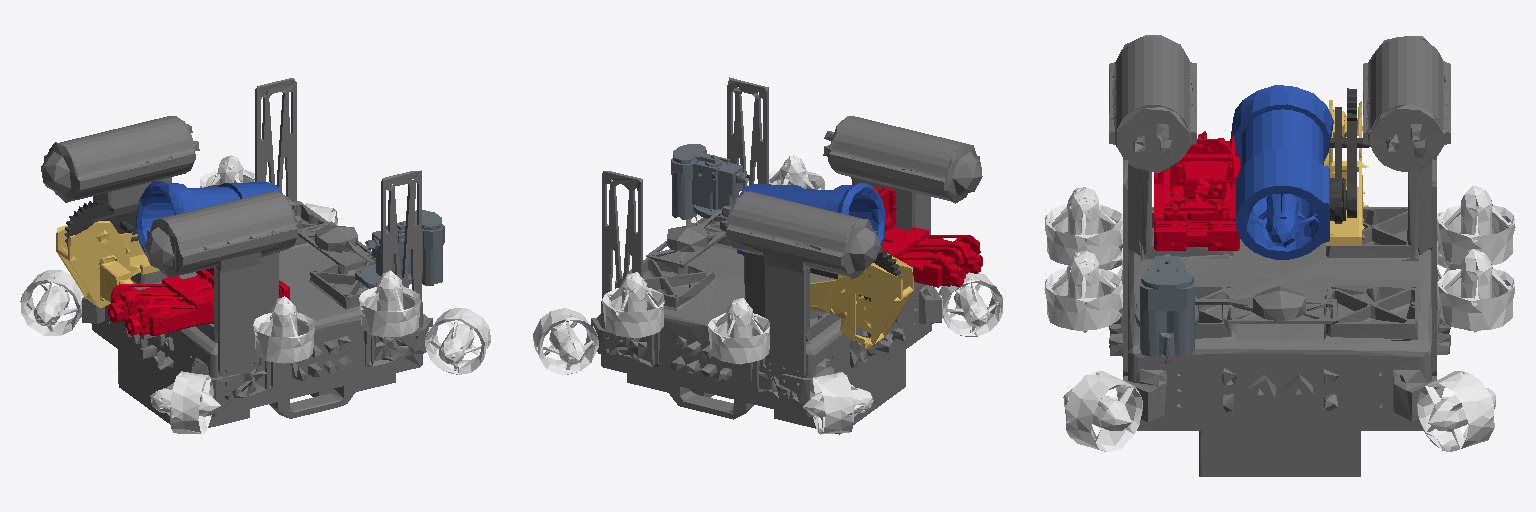
robot.urdf — osprey:
<?xml version="1.0" ?>
<!-- Generated using onshape-to-robot -->
<!-- Onshape https://tartanauv.onshape.com/documents/1d3a264128e12a62f4cb4bc2/w/89ba3c0f0e07a75a030ec478/e/21dfbfffd330340c25762d01 -->
<robot name="osprey">
  <!-- Link os_hull -->
  <link name="os_hull">
    <inertial>
      <origin xyz="-0.0295823 -0.00643136 -0.0139951" rpy="0 0 0"/>
      <mass value="27.6559"/>
      <inertia ixx="0.85867" ixy="0.0143073" ixz="0.134619" iyy="0.839758" iyz="0.00651412" izz="1.23509"/>
    </inertial>
    <!-- Part thruster -->
    <visual>
      <origin xyz="-0.094181 0.24585 0.0130518" rpy="1.70074e-16 -5.55112e-17 3.14159"/>
      <geometry>
        <mesh filename="package://assets/thruster.stl"/>
      </geometry>
      <material name="thruster_material">
        <color rgba="0.917647 0.917647 0.917647 1"/>
      </material>
    </visual>
    <collision>
      <origin xyz="-0.094181 0.24585 0.0130518" rpy="1.70074e-16 -5.55112e-17 3.14159"/>
      <geometry>
        <mesh filename="package://assets/thruster.stl"/>
      </geometry>
    </collision>
    <!-- Part thruster_2 -->
    <visual>
      <origin xyz="0.231974 0.219909 -0.0789257" rpy="-2.35619 1.5708 0"/>
      <geometry>
        <mesh filename="package://assets/thruster.stl"/>
      </geometry>
      <material name="thruster_2_material">
        <color rgba="0.917647 0.917647 0.917647 1"/>
      </material>
    </visual>
    <collision>
      <origin xyz="0.231974 0.219909 -0.0789257" rpy="-2.35619 1.5708 0"/>
      <geometry>
        <mesh filename="package://assets/thruster.stl"/>
      </geometry>
    </collision>
    <!-- Part thruster_3 -->
    <visual>
      <origin xyz="-0.239437 0.212447 -0.0789257" rpy="2.35619 1.5708 0"/>
      <geometry>
        <mesh filename="package://assets/thruster.stl"/>
      </geometry>
      <material name="thruster_3_material">
        <color rgba="0.917647 0.917647 0.917647 1"/>
      </material>
    </visual>
    <collision>
      <origin xyz="-0.239437 0.212447 -0.0789257" rpy="2.35619 1.5708 0"/>
      <geometry>
        <mesh filename="package://assets/thruster.stl"/>
      </geometry>
    </collision>
    <!-- Part thruster_4 -->
    <visual>
      <origin xyz="-0.094181 -0.24585 0.0130518" rpy="1.70074e-16 5.55112e-17 9.41879e-16"/>
      <geometry>
        <mesh filename="package://assets/thruster.stl"/>
      </geometry>
      <material name="thruster_4_material">
        <color rgba="0.917647 0.917647 0.917647 1"/>
      </material>
    </visual>
    <collision>
      <origin xyz="-0.094181 -0.24585 0.0130518" rpy="1.70074e-16 5.55112e-17 9.41879e-16"/>
      <geometry>
        <mesh filename="package://assets/thruster.stl"/>
      </geometry>
    </collision>
    <!-- Part os_hull -->
    <visual>
      <origin xyz="0.037587 0.049 -0.024856" rpy="3.14159 -0 1.5708"/>
      <geometry>
        <mesh filename="package://assets/os_hull.stl"/>
      </geometry>
      <material name="os_hull_material">
        <color rgba="0.498039 0.498039 0.498039 1"/>
      </material>
    </visual>
    <collision>
      <origin xyz="0.037587 0.049 -0.024856" rpy="3.14159 -0 1.5708"/>
      <geometry>
        <mesh filename="package://assets/os_hull.stl"/>
      </geometry>
    </collision>
    <!-- Part os_launcher -->
    <visual>
      <origin xyz="-0.34406 -0.183596 -0.190146" rpy="0 1.93383e-14 -1.5708"/>
      <geometry>
        <mesh filename="package://assets/os_launcher.stl"/>
      </geometry>
      <material name="os_launcher_material">
        <color rgba="0.823529 0.0156863 0.176471 1"/>
      </material>
    </visual>
    <collision>
      <origin xyz="-0.34406 -0.183596 -0.190146" rpy="0 1.93383e-14 -1.5708"/>
      <geometry>
        <mesh filename="package://assets/os_launcher.stl"/>
      </geometry>
    </collision>
    <!-- Part thruster_5 -->
    <visual>
      <origin xyz="0.094181 0.24585 0.0130518" rpy="1.70074e-16 -5.55112e-17 3.14159"/>
      <geometry>
        <mesh filename="package://assets/thruster.stl"/>
      </geometry>
      <material name="thruster_5_material">
        <color rgba="0.917647 0.917647 0.917647 1"/>
      </material>
    </visual>
    <collision>
      <origin xyz="0.094181 0.24585 0.0130518" rpy="1.70074e-16 -5.55112e-17 3.14159"/>
      <geometry>
        <mesh filename="package://assets/thruster.stl"/>
      </geometry>
    </collision>
    <!-- Part thruster_6 -->
    <visual>
      <origin xyz="-0.239437 -0.212447 -0.0789257" rpy="-0.785398 -1.5708 0"/>
      <geometry>
        <mesh filename="package://assets/thruster.stl"/>
      </geometry>
      <material name="thruster_6_material">
        <color rgba="0.917647 0.917647 0.917647 1"/>
      </material>
    </visual>
    <collision>
      <origin xyz="-0.239437 -0.212447 -0.0789257" rpy="-0.785398 -1.5708 0"/>
      <geometry>
        <mesh filename="package://assets/thruster.stl"/>
      </geometry>
    </collision>
    <!-- Part os_arm_base -->
    <visual>
      <origin xyz="-0.280342 0.241861 0.433391" rpy="3.14159 -0 6.12323e-17"/>
      <geometry>
        <mesh filename="package://assets/os_arm_base.stl"/>
      </geometry>
      <material name="os_arm_base_material">
        <color rgba="0.882353 0.756863 0.431373 1"/>
      </material>
    </visual>
    <collision>
      <origin xyz="-0.280342 0.241861 0.433391" rpy="3.14159 -0 6.12323e-17"/>
      <geometry>
        <mesh filename="package://assets/os_arm_base.stl"/>
      </geometry>
    </collision>
    <!-- Part thruster_7 -->
    <visual>
      <origin xyz="0.231974 -0.219909 -0.0789257" rpy="0.785398 -1.5708 0"/>
      <geometry>
        <mesh filename="package://assets/thruster.stl"/>
      </geometry>
      <material name="thruster_7_material">
        <color rgba="0.917647 0.917647 0.917647 1"/>
      </material>
    </visual>
    <collision>
      <origin xyz="0.231974 -0.219909 -0.0789257" rpy="0.785398 -1.5708 0"/>
      <geometry>
        <mesh filename="package://assets/thruster.stl"/>
      </geometry>
    </collision>
    <!-- Part os_dropper -->
    <visual>
      <origin xyz="0.152974 -0.140932 0.0152" rpy="3.14159 -0 -1.5708"/>
      <geometry>
        <mesh filename="package://assets/os_dropper.stl"/>
      </geometry>
      <material name="os_dropper_material">
        <color rgba="0.439216 0.47451 0.501961 1"/>
      </material>
    </visual>
    <collision>
      <origin xyz="0.152974 -0.140932 0.0152" rpy="3.14159 -0 -1.5708"/>
      <geometry>
        <mesh filename="package://assets/os_dropper.stl"/>
      </geometry>
    </collision>
    <!-- Part thruster_8 -->
    <visual>
      <origin xyz="0.094181 -0.24585 0.0130518" rpy="1.70074e-16 5.55112e-17 9.41879e-16"/>
      <geometry>
        <mesh filename="package://assets/thruster.stl"/>
      </geometry>
      <material name="thruster_8_material">
        <color rgba="0.917647 0.917647 0.917647 1"/>
      </material>
    </visual>
    <collision>
      <origin xyz="0.094181 -0.24585 0.0130518" rpy="1.70074e-16 5.55112e-17 9.41879e-16"/>
      <geometry>
        <mesh filename="package://assets/thruster.stl"/>
      </geometry>
    </collision>
  </link>
  <!-- Frame os/launcher/right/front (dummy link + fixed joint) -->
  <link name="os/launcher/right/front">
    <origin xyz="0 0 0" rpy="0 -0 0"/>
    <inertial>
      <origin xyz="0 0 0" rpy="0 0 0"/>
      <mass value="1e-9"/>
      <inertia ixx="0" ixy="0" ixz="0" iyy="0" iyz="0" izz="0"/>
    </inertial>
  </link>
  <joint name="os/launcher/right/front_frame" type="fixed">
    <origin xyz="-0.302742 -0.13074 0.0340625" rpy="-1.5708 -1.93383e-14 1.5708"/>
    <parent link="os_hull"/>
    <child link="os/launcher/right/front"/>
    <axis xyz="0 0 0"/>
  </joint>
  <!-- Frame os/launcher/left/front (dummy link + fixed joint) -->
  <link name="os/launcher/left/front">
    <origin xyz="0 0 0" rpy="0 -0 0"/>
    <inertial>
      <origin xyz="0 0 0" rpy="0 0 0"/>
      <mass value="1e-9"/>
      <inertia ixx="0" ixy="0" ixz="0" iyy="0" iyz="0" izz="0"/>
    </inertial>
  </link>
  <joint name="os/launcher/left/front_frame" type="fixed">
    <origin xyz="-0.302742 -0.07639 0.0340625" rpy="-1.5708 -1.93383e-14 1.5708"/>
    <parent link="os_hull"/>
    <child link="os/launcher/left/front"/>
    <axis xyz="0 0 0"/>
  </joint>
  <!-- Frame os/camera/right (dummy link + fixed joint) -->
  <link name="os/camera/right">
    <origin xyz="0 0 0" rpy="0 -0 0"/>
    <inertial>
      <origin xyz="0 0 0" rpy="0 0 0"/>
      <mass value="1e-9"/>
      <inertia ixx="0" ixy="0" ixz="0" iyy="0" iyz="0" izz="0"/>
    </inertial>
  </link>
  <joint name="os/camera/right_frame" type="fixed">
    <origin xyz="-0.263197 -0.15875 0.167298" rpy="1.5708 1.15637e-31 -1.5708"/>
    <parent link="os_hull"/>
    <child link="os/camera/right"/>
    <axis xyz="0 0 0"/>
  </joint>
  <!-- Frame os/camera/left (dummy link + fixed joint) -->
  <link name="os/camera/left">
    <origin xyz="0 0 0" rpy="0 -0 0"/>
    <inertial>
      <origin xyz="0 0 0" rpy="0 0 0"/>
      <mass value="1e-9"/>
      <inertia ixx="0" ixy="0" ixz="0" iyy="0" iyz="0" izz="0"/>
    </inertial>
  </link>
  <joint name="os/camera/left_frame" type="fixed">
    <origin xyz="-0.263197 0.15875 0.167298" rpy="1.5708 -1.90348e-31 -1.5708"/>
    <parent link="os_hull"/>
    <child link="os/camera/left"/>
    <axis xyz="0 0 0"/>
  </joint>
  <!-- Frame os/thruster/flh (dummy link + fixed joint) -->
  <link name="os/thruster/flh">
    <origin xyz="0 0 0" rpy="0 -0 0"/>
    <inertial>
      <origin xyz="0 0 0" rpy="0 0 0"/>
      <mass value="1e-9"/>
      <inertia ixx="0" ixy="0" ixz="0" iyy="0" iyz="0" izz="0"/>
    </inertial>
  </link>
  <joint name="os/thruster/flh_frame" type="fixed">
    <origin xyz="-0.246501 0.205383 -0.0789257" rpy="-1.5708 1.88842e-17 -2.35619"/>
    <parent link="os_hull"/>
    <child link="os/thruster/flh"/>
    <axis xyz="0 0 0"/>
  </joint>
  <!-- Frame os/thruster/frh (dummy link + fixed joint) -->
  <link name="os/thruster/frh">
    <origin xyz="0 0 0" rpy="0 -0 0"/>
    <inertial>
      <origin xyz="0 0 0" rpy="0 0 0"/>
      <mass value="1e-9"/>
      <inertia ixx="0" ixy="0" ixz="0" iyy="0" iyz="0" izz="0"/>
    </inertial>
  </link>
  <joint name="os/thruster/frh_frame" type="fixed">
    <origin xyz="-0.246501 -0.205383 -0.0789257" rpy="-1.5708 -2.65242e-16 2.35619"/>
    <parent link="os_hull"/>
    <child link="os/thruster/frh"/>
    <axis xyz="0 0 0"/>
  </joint>
  <!-- Frame os/thruster/frv (dummy link + fixed joint) -->
  <link name="os/thruster/frv">
    <origin xyz="0 0 0" rpy="0 -0 0"/>
    <inertial>
      <origin xyz="0 0 0" rpy="0 0 0"/>
      <mass value="1e-9"/>
      <inertia ixx="0" ixy="0" ixz="0" iyy="0" iyz="0" izz="0"/>
    </inertial>
  </link>
  <joint name="os/thruster/frv_frame" type="fixed">
    <origin xyz="-0.094181 -0.24585 0.0230414" rpy="1.10637e-15 -1.5708 0"/>
    <parent link="os_hull"/>
    <child link="os/thruster/frv"/>
    <axis xyz="0 0 0"/>
  </joint>
  <!-- Frame os/thruster/arv (dummy link + fixed joint) -->
  <link name="os/thruster/arv">
    <origin xyz="0 0 0" rpy="0 -0 0"/>
    <inertial>
      <origin xyz="0 0 0" rpy="0 0 0"/>
      <mass value="1e-9"/>
      <inertia ixx="0" ixy="0" ixz="0" iyy="0" iyz="0" izz="0"/>
    </inertial>
  </link>
  <joint name="os/thruster/arv_frame" type="fixed">
    <origin xyz="0.094181 -0.24585 0.0230414" rpy="1.5708 -1.5708 0"/>
    <parent link="os_hull"/>
    <child link="os/thruster/arv"/>
    <axis xyz="0 0 0"/>
  </joint>
  <!-- Frame os/thruster/arh (dummy link + fixed joint) -->
  <link name="os/thruster/arh">
    <origin xyz="0 0 0" rpy="0 -0 0"/>
    <inertial>
      <origin xyz="0 0 0" rpy="0 0 0"/>
      <mass value="1e-9"/>
      <inertia ixx="0" ixy="0" ixz="0" iyy="0" iyz="0" izz="0"/>
    </inertial>
  </link>
  <joint name="os/thruster/arh_frame" type="fixed">
    <origin xyz="0.224911 -0.226973 -0.0789257" rpy="-1.5708 3.75523e-15 -2.35619"/>
    <parent link="os_hull"/>
    <child link="os/thruster/arh"/>
    <axis xyz="0 0 0"/>
  </joint>
  <!-- Frame os/thruster/alh (dummy link + fixed joint) -->
  <link name="os/thruster/alh">
    <origin xyz="0 0 0" rpy="0 -0 0"/>
    <inertial>
      <origin xyz="0 0 0" rpy="0 0 0"/>
      <mass value="1e-9"/>
      <inertia ixx="0" ixy="0" ixz="0" iyy="0" iyz="0" izz="0"/>
    </inertial>
  </link>
  <joint name="os/thruster/alh_frame" type="fixed">
    <origin xyz="0.224911 0.226973 -0.0789257" rpy="-1.5708 2.22826e-17 2.35619"/>
    <parent link="os_hull"/>
    <child link="os/thruster/alh"/>
    <axis xyz="0 0 0"/>
  </joint>
  <!-- Frame os/dropper/left (dummy link + fixed joint) -->
  <link name="os/dropper/left">
    <origin xyz="0 0 0" rpy="0 -0 0"/>
    <inertial>
      <origin xyz="0 0 0" rpy="0 0 0"/>
      <mass value="1e-9"/>
      <inertia ixx="0" ixy="0" ixz="0" iyy="0" iyz="0" izz="0"/>
    </inertial>
  </link>
  <joint name="os/dropper/left_frame" type="fixed">
    <origin xyz="0.218915 -0.124632 0.09325" rpy="-7.00728e-16 -1.20676e-15 1.5708"/>
    <parent link="os_hull"/>
    <child link="os/dropper/left"/>
    <axis xyz="0 0 0"/>
  </joint>
  <!-- Frame os/dropper/right (dummy link + fixed joint) -->
  <link name="os/dropper/right">
    <origin xyz="0 0 0" rpy="0 -0 0"/>
    <inertial>
      <origin xyz="0 0 0" rpy="0 0 0"/>
      <mass value="1e-9"/>
      <inertia ixx="0" ixy="0" ixz="0" iyy="0" iyz="0" izz="0"/>
    </inertial>
  </link>
  <joint name="os/dropper/right_frame" type="fixed">
    <origin xyz="0.218915 -0.157232 0.09325" rpy="-7.00728e-16 -1.20676e-15 1.5708"/>
    <parent link="os_hull"/>
    <child link="os/dropper/right"/>
    <axis xyz="0 0 0"/>
  </joint>
  <!-- Frame os/thruster/alv (dummy link + fixed joint) -->
  <link name="os/thruster/alv">
    <origin xyz="0 0 0" rpy="0 -0 0"/>
    <inertial>
      <origin xyz="0 0 0" rpy="0 0 0"/>
      <mass value="1e-9"/>
      <inertia ixx="0" ixy="0" ixz="0" iyy="0" iyz="0" izz="0"/>
    </inertial>
  </link>
  <joint name="os/thruster/alv_frame" type="fixed">
    <origin xyz="0.094181 0.24585 0.0230414" rpy="3.14159 -1.5708 0"/>
    <parent link="os_hull"/>
    <child link="os/thruster/alv"/>
    <axis xyz="0 0 0"/>
  </joint>
  <!-- Frame os/thruster/flv (dummy link + fixed joint) -->
  <link name="os/thruster/flv">
    <origin xyz="0 0 0" rpy="0 -0 0"/>
    <inertial>
      <origin xyz="0 0 0" rpy="0 0 0"/>
      <mass value="1e-9"/>
      <inertia ixx="0" ixy="0" ixz="0" iyy="0" iyz="0" izz="0"/>
    </inertial>
  </link>
  <joint name="os/thruster/flv_frame" type="fixed">
    <origin xyz="-0.094181 0.24585 0.0230414" rpy="3.14159 -1.5708 0"/>
    <parent link="os_hull"/>
    <child link="os/thruster/flv"/>
    <axis xyz="0 0 0"/>
  </joint>
  <!-- Frame os/launcher/right/back (dummy link + fixed joint) -->
  <link name="os/launcher/right/back">
    <origin xyz="0 0 0" rpy="0 -0 0"/>
    <inertial>
      <origin xyz="0 0 0" rpy="0 0 0"/>
      <mass value="1e-9"/>
      <inertia ixx="0" ixy="0" ixz="0" iyy="0" iyz="0" izz="0"/>
    </inertial>
  </link>
  <joint name="os/launcher/right/back_frame" type="fixed">
    <origin xyz="-0.0837294 -0.13074 0.0340625" rpy="-1.5708 -1.93383e-14 1.5708"/>
    <parent link="os_hull"/>
    <child link="os/launcher/right/back"/>
    <axis xyz="0 0 0"/>
  </joint>
  <!-- Frame os/launcher/left/back (dummy link + fixed joint) -->
  <link name="os/launcher/left/back">
    <origin xyz="0 0 0" rpy="0 -0 0"/>
    <inertial>
      <origin xyz="0 0 0" rpy="0 0 0"/>
      <mass value="1e-9"/>
      <inertia ixx="0" ixy="0" ixz="0" iyy="0" iyz="0" izz="0"/>
    </inertial>
  </link>
  <joint name="os/launcher/left/back_frame" type="fixed">
    <origin xyz="-0.0838074 -0.07639 0.0340625" rpy="-1.5708 -1.93383e-14 1.5708"/>
    <parent link="os_hull"/>
    <child link="os/launcher/left/back"/>
    <axis xyz="0 0 0"/>
  </joint>
  <!-- Frame os/dvl (dummy link + fixed joint) -->
  <link name="os/dvl">
    <origin xyz="0 0 0" rpy="0 -0 0"/>
    <inertial>
      <origin xyz="0 0 0" rpy="0 0 0"/>
      <mass value="1e-9"/>
      <inertia ixx="0" ixy="0" ixz="0" iyy="0" iyz="0" izz="0"/>
    </inertial>
  </link>
  <joint name="os/dvl_frame" type="fixed">
    <origin xyz="0.140895 -1.18509e-05 0.0199625" rpy="-1.79692e-16 2.07039e-14 1.5708"/>
    <parent link="os_hull"/>
    <child link="os/dvl"/>
    <axis xyz="0 0 0"/>
  </joint>
  <!-- Frame os/depth (dummy link + fixed joint) -->
  <link name="os/depth">
    <origin xyz="0 0 0" rpy="0 -0 0"/>
    <inertial>
      <origin xyz="0 0 0" rpy="0 0 0"/>
      <mass value="1e-9"/>
      <inertia ixx="0" ixy="0" ixz="0" iyy="0" iyz="0" izz="0"/>
    </inertial>
  </link>
  <joint name="os/depth_frame" type="fixed">
    <origin xyz="-0.2025 -0.0381 -0.0803025" rpy="-1.5708 -3.33854e-30 1.5708"/>
    <parent link="os_hull"/>
    <child link="os/depth"/>
    <axis xyz="0 0 0"/>
  </joint>
  <!-- Frame os/imu (dummy link + fixed joint) -->
  <link name="os/imu">
    <origin xyz="0 0 0" rpy="0 -0 0"/>
    <inertial>
      <origin xyz="0 0 0" rpy="0 0 0"/>
      <mass value="1e-9"/>
      <inertia ixx="0" ixy="0" ixz="0" iyy="0" iyz="0" izz="0"/>
    </inertial>
  </link>
  <joint name="os/imu_frame" type="fixed">
    <origin xyz="0.037587 0.049 -0.024856" rpy="2.71051e-20 -6.12323e-17 -3.14159"/>
    <parent link="os_hull"/>
    <child link="os/imu"/>
    <axis xyz="0 0 0"/>
  </joint>
  <!-- Link os_arm_link -->
  <link name="os_arm_link">
    <inertial>
      <origin xyz="-0.0994583 0.036203 -0.00219433" rpy="0 0 0"/>
      <mass value="0.736942"/>
      <inertia ixx="0.000949967" ixy="0.00185596" ixz="0.000240872" iyy="0.00537443" iyz="-8.76508e-05" izz="0.00621057"/>
    </inertial>
    <!-- Part os_arm_link -->
    <visual>
      <origin xyz="-0.0382553 0.338481 -0.157942" rpy="1.5708 -4.996e-16 -2.22218e-17"/>
      <geometry>
        <mesh filename="package://assets/os_arm_link.stl"/>
      </geometry>
      <material name="os_arm_link_material">
        <color rgba="0.294118 0.294118 0.294118 1"/>
      </material>
    </visual>
    <collision>
      <origin xyz="-0.0382553 0.338481 -0.157942" rpy="1.5708 -4.996e-16 -2.22218e-17"/>
      <geometry>
        <mesh filename="package://assets/os_arm_link.stl"/>
      </geometry>
    </collision>
  </link>
  <!-- Link os_arm_tube -->
  <link name="os_arm_tube">
    <inertial>
      <origin xyz="-5.75182e-05 -0.0295561 -0.057812" rpy="0 0 0"/>
      <mass value="0.889825"/>
      <inertia ixx="0.00518868" ixy="2.42988e-06" ixz="-7.44611e-08" iyy="0.0021435" iyz="-3.27023e-05" izz="0.00515098"/>
    </inertial>
    <!-- Part os_arm_tube -->
    <visual>
      <origin xyz="0.166033 -0.264126 0.179792" rpy="-1.5708 8.54658e-16 1.94138e-18"/>
      <geometry>
        <mesh filename="package://assets/os_arm_tube.stl"/>
      </geometry>
      <material name="os_arm_tube_material">
        <color rgba="0.231373 0.380392 0.705882 1"/>
      </material>
    </visual>
    <collision>
      <origin xyz="0.166033 -0.264126 0.179792" rpy="-1.5708 8.54658e-16 1.94138e-18"/>
      <geometry>
        <mesh filename="package://assets/os_arm_tube.stl"/>
      </geometry>
    </collision>
  </link>
  <!-- Frame os/arm/intake (dummy link + fixed joint) -->
  <link name="os/arm/intake">
    <origin xyz="0 0 0" rpy="0 -0 0"/>
    <inertial>
      <origin xyz="0 0 0" rpy="0 0 0"/>
      <mass value="1e-9"/>
      <inertia ixx="0" ixy="0" ixz="0" iyy="0" iyz="0" izz="0"/>
    </inertial>
  </link>
  <joint name="os/arm/intake_frame" type="fixed">
    <origin xyz="2.08167e-16 -0.1397 -0.0587375" rpy="1.5708 -1.5708 0"/>
    <parent link="os_arm_tube"/>
    <child link="os/arm/intake"/>
    <axis xyz="0 0 0"/>
  </joint>
  <!-- Frame os/arm/thruster (dummy link + fixed joint) -->
  <link name="os/arm/thruster">
    <origin xyz="0 0 0" rpy="0 -0 0"/>
    <inertial>
      <origin xyz="0 0 0" rpy="0 0 0"/>
      <mass value="1e-9"/>
      <inertia ixx="0" ixy="0" ixz="0" iyy="0" iyz="0" izz="0"/>
    </inertial>
  </link>
  <joint name="os/arm/thruster_frame" type="fixed">
    <origin xyz="0.001 0.031518 -0.0587375" rpy="3.03274e-15 1.10685e-17 1.5708"/>
    <parent link="os_arm_tube"/>
    <child link="os/arm/thruster"/>
    <axis xyz="0 0 0"/>
  </joint>
  <!-- Joint from os_arm_link to os_arm_tube -->
  <joint name="os/arm/link" type="revolute">
    <origin xyz="-0.204288 0.0743547 0.02185" rpy="-3.14159 8.89355e-16 -2.13546"/>
    <parent link="os_arm_link"/>
    <child link="os_arm_tube"/>
    <axis xyz="0 0 1"/>
    <limit effort="10" velocity="10" lower="-3.141592653589793" upper="3.141592653589793"/>
    <mimic joint="os/arm/base" multiplier="-0.7647058823529411"/>
  </joint>
  <!-- Joint from os_hull to os_arm_link -->
  <joint name="os/arm/base" type="revolute">
    <origin xyz="-0.242087 0.0838629 0.0949098" rpy="-1.5708 0.349066 3.14159"/>
    <parent link="os_hull"/>
    <child link="os_arm_link"/>
    <axis xyz="0 0 1"/>
    <limit effort="10" velocity="10" lower="0" upper="2.79253"/>
  </joint>
</robot>

--- What the picture shows (computed from the rendered views, not written in the file) ---
The picture shows the robot from 3 angles, left to right: view 1: azimuth 30°, elevation 25°; view 2: azimuth 150°, elevation 25°; view 3: azimuth 270°, elevation 25°; orthographic projection.
Robot: osprey — 24 links, 23 joints (2 revolute, 21 fixed); root link os_hull; default pose: all joints at 0.
Links seen in each view (by area): view 1: os_hull, os_arm_tube, os_arm_link; view 2: os_hull, os_arm_tube, os_arm_link; view 3: os_hull, os_arm_tube, os_arm_link.
Link boxes in pixels (x1=…): os_hull: x1=20, y1=78, x2=490, y2=433; os_arm_tube: x1=136, y1=181, x2=282, y2=254; os_arm_link: x1=64, y1=185, x2=218, y2=246; os_hull: x1=533, y1=77, x2=1002, y2=434; os_arm_tube: x1=737, y1=183, x2=885, y2=255; os_arm_link: x1=740, y1=246, x2=900, y2=301; os_hull: x1=1044, y1=35, x2=1515, y2=476; os_arm_tube: x1=1232, y1=85, x2=1333, y2=259; os_arm_link: x1=1329, y1=88, x2=1369, y2=223.
Size in the robot's own frame: 0.5831 by 0.5892 by 0.4018 metres.
Meshes: 7 distinct files referenced, 14 mesh visuals loaded (7 ASCII STL).
